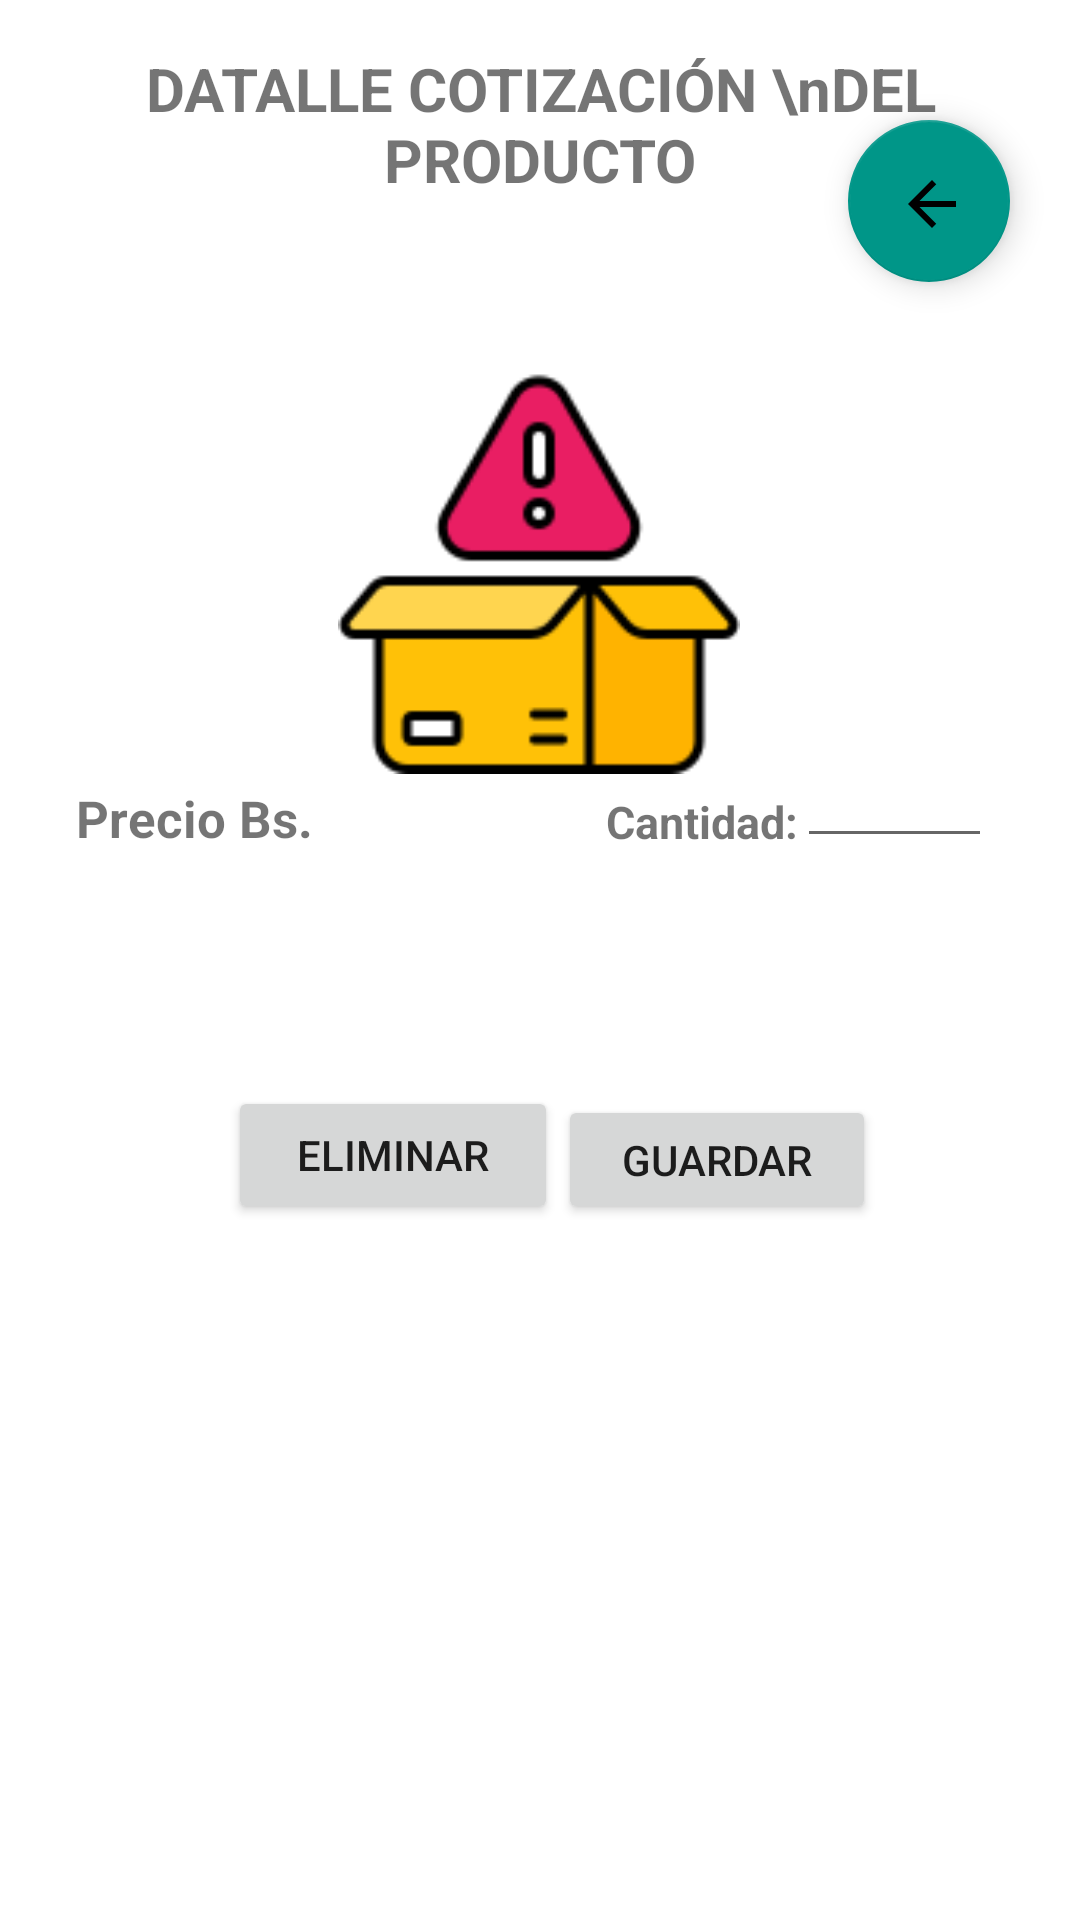

Named icons in this screenshot (1080w x 1920h) and their centers, (x=x, y=y):
back: (x=929, y=201)
